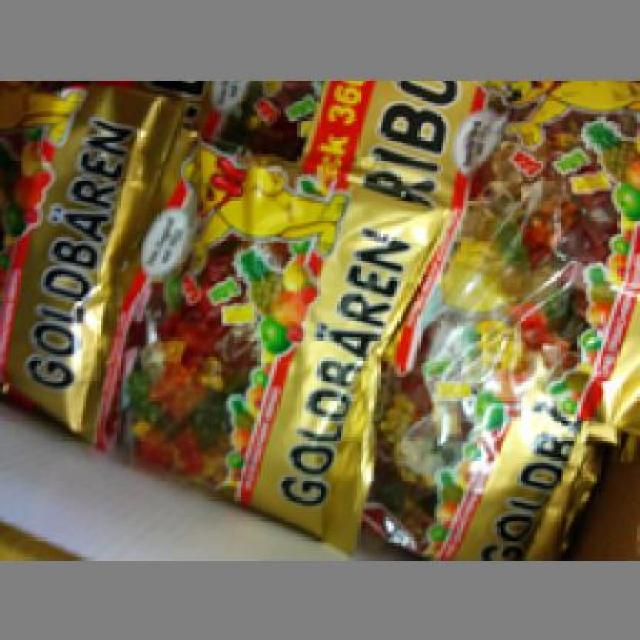Candy: (17, 100, 452, 546)
